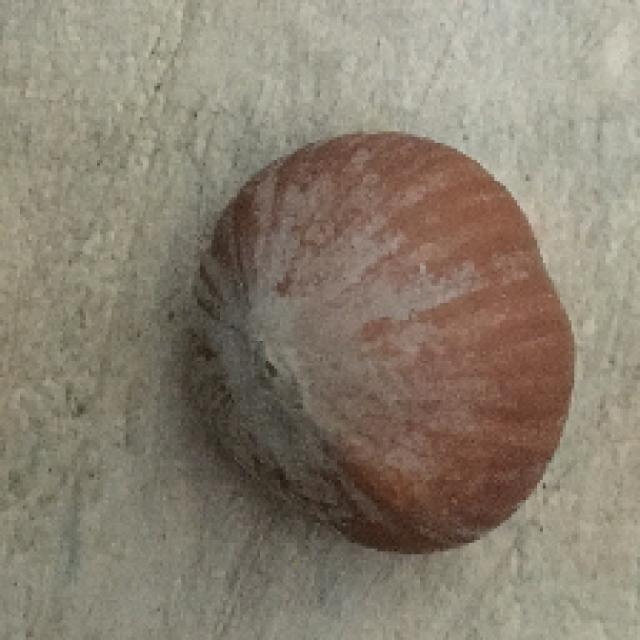qualityHazelnut: (177, 128, 578, 556)
